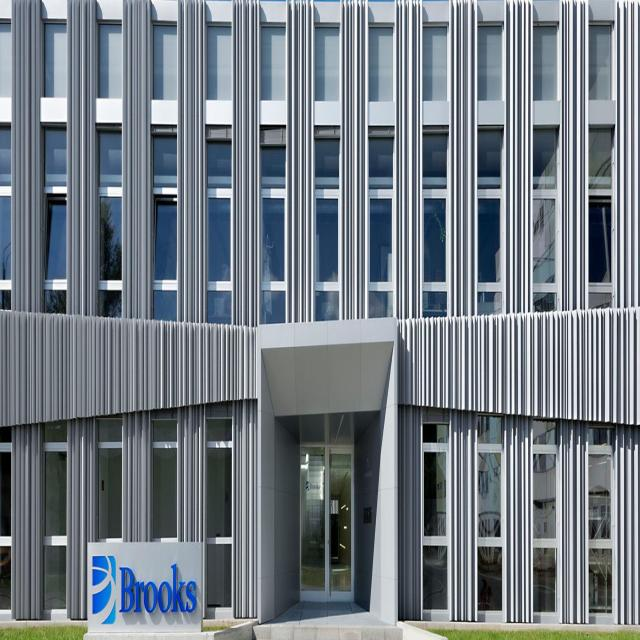door: (299, 444, 356, 605)
window: (203, 420, 232, 611), (423, 424, 451, 616), (477, 416, 502, 616), (41, 434, 68, 607), (369, 127, 394, 313), (99, 129, 123, 314), (263, 137, 287, 322), (43, 128, 66, 312), (154, 132, 177, 315), (207, 137, 230, 320), (313, 127, 336, 310), (424, 131, 447, 314), (477, 136, 500, 319), (534, 136, 558, 311), (590, 441, 613, 607), (533, 434, 556, 600), (150, 416, 178, 541), (96, 415, 124, 540), (590, 139, 611, 305), (0, 125, 12, 312), (0, 437, 12, 615)
